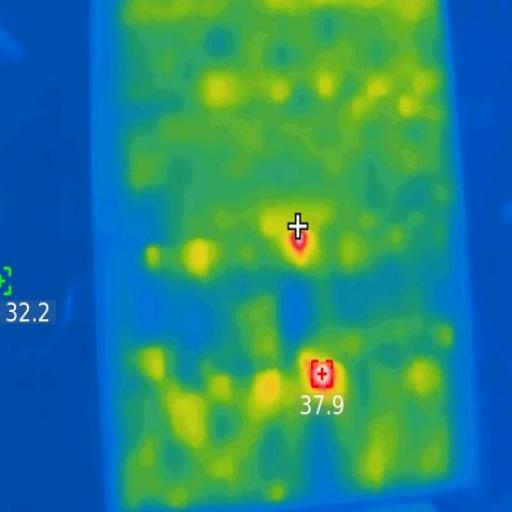hotspot: (307, 356, 335, 391), (288, 227, 312, 255)
